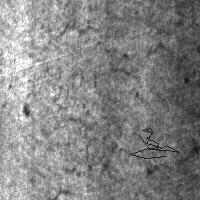crazing: (40, 114, 200, 197), (35, 17, 171, 107), (130, 128, 179, 158)
